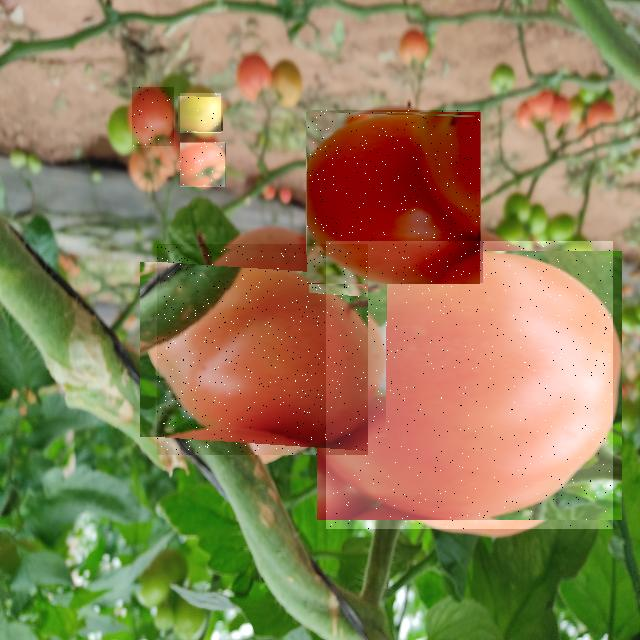Ripe Tomato: (326, 241, 613, 529), (157, 244, 368, 455), (307, 110, 480, 284), (132, 87, 174, 146), (180, 142, 225, 187)
Unripe Tomato: (180, 93, 221, 133)
